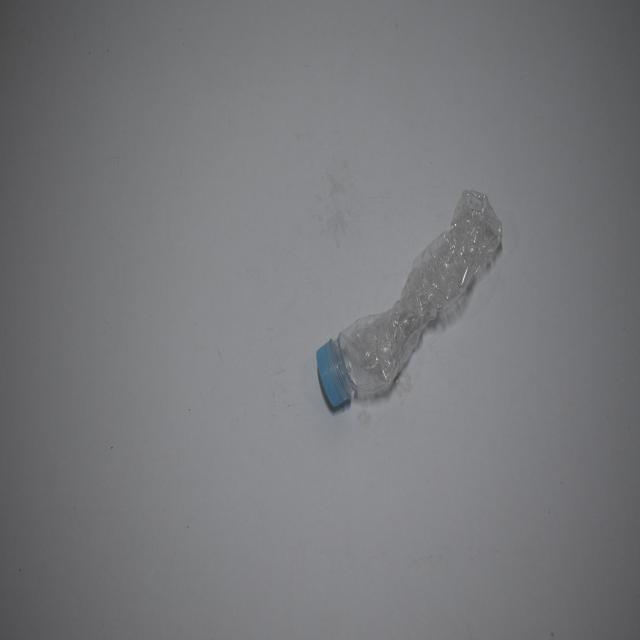bottle: (314, 184, 504, 416)
